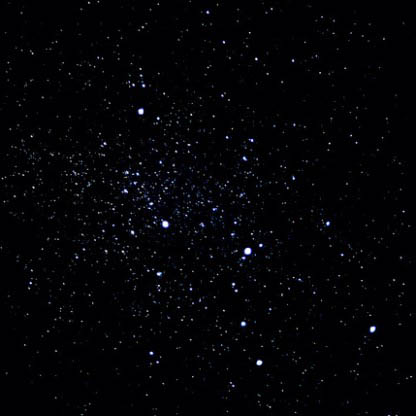Cassiopeia: (227, 313, 281, 373), (230, 235, 260, 263), (150, 211, 177, 239), (129, 98, 153, 128), (357, 317, 386, 341)
